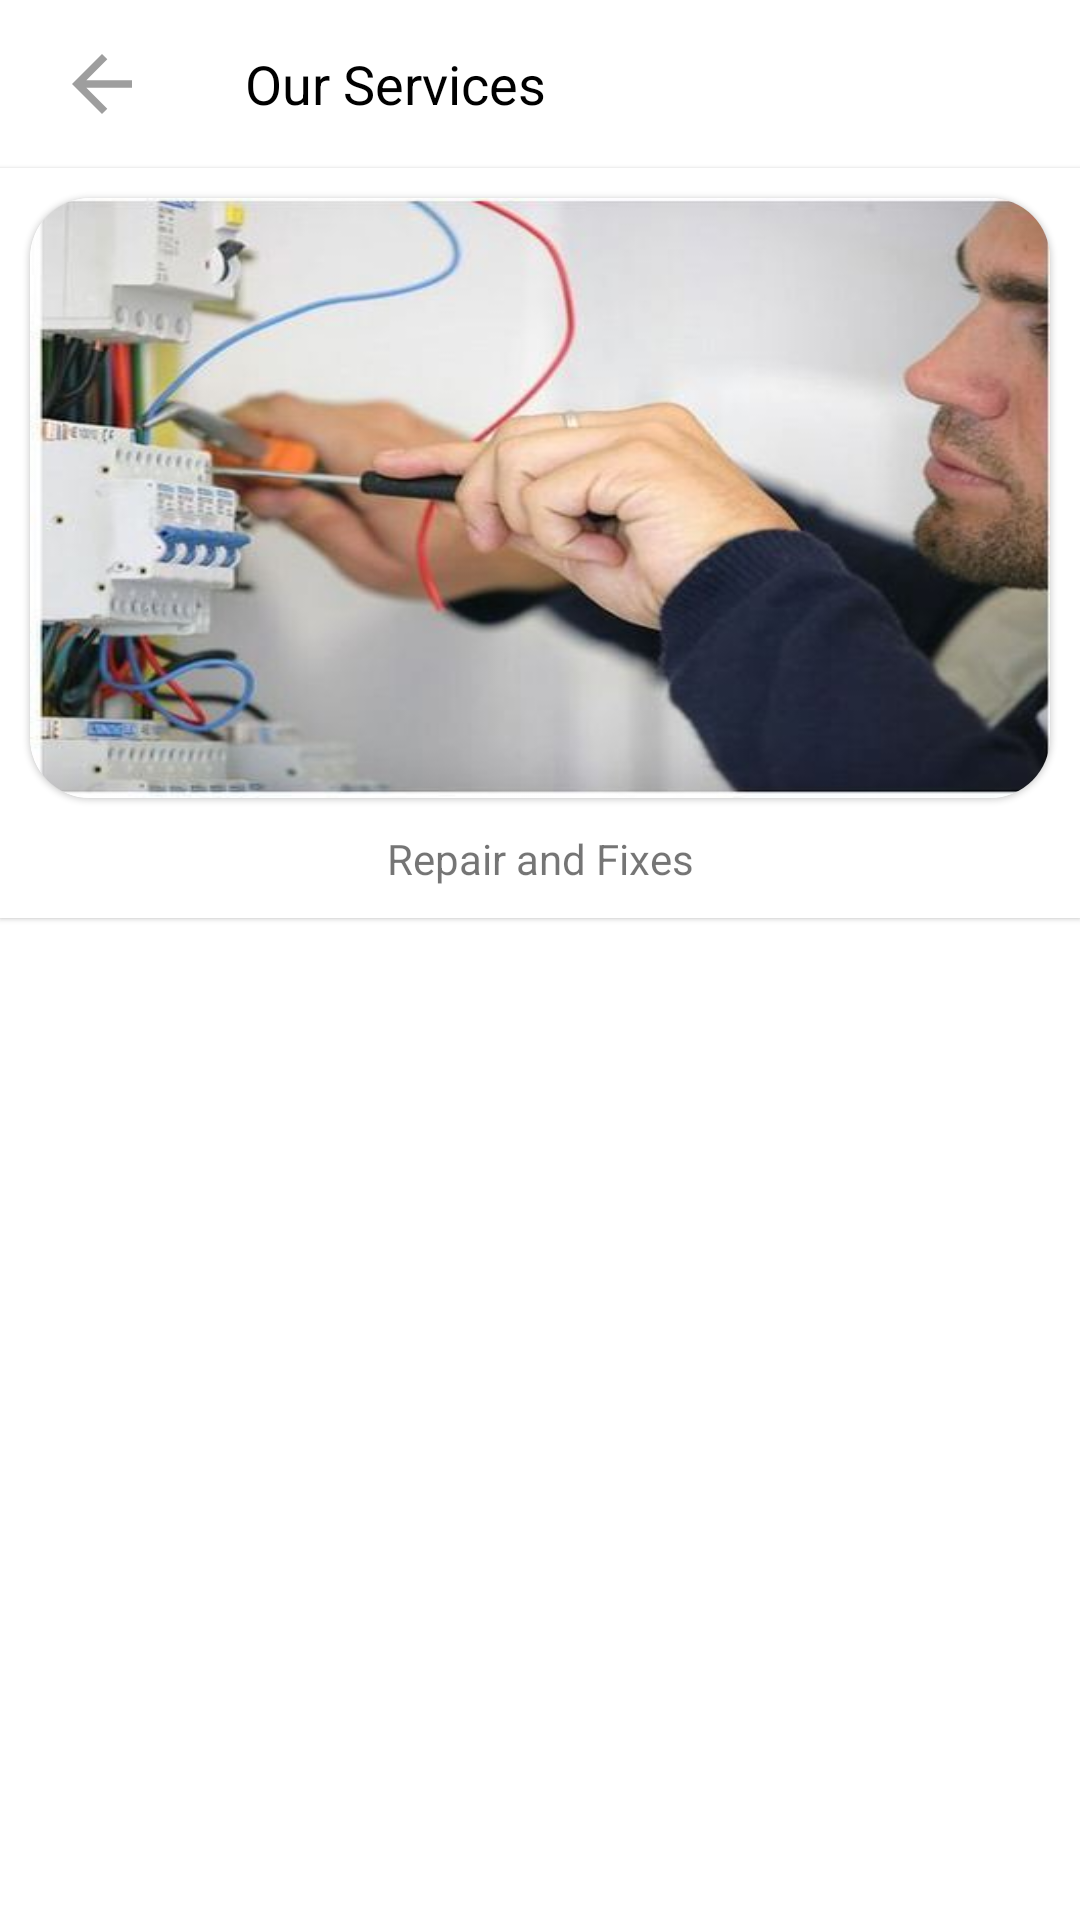

Screen size 1080 x 1920. Icon name, then its box in pixels as (x1,y1,x2,y2):
arrow back: (72,54,132,114)
